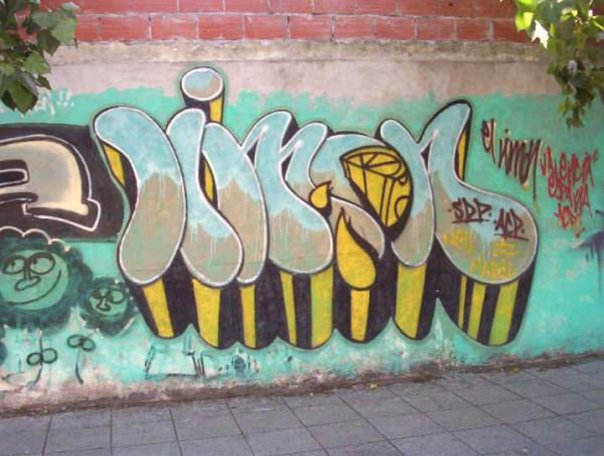graffity: (93, 65, 539, 361), (1, 230, 141, 390), (1, 119, 137, 242), (536, 142, 600, 243), (476, 115, 544, 210), (449, 196, 536, 252)
